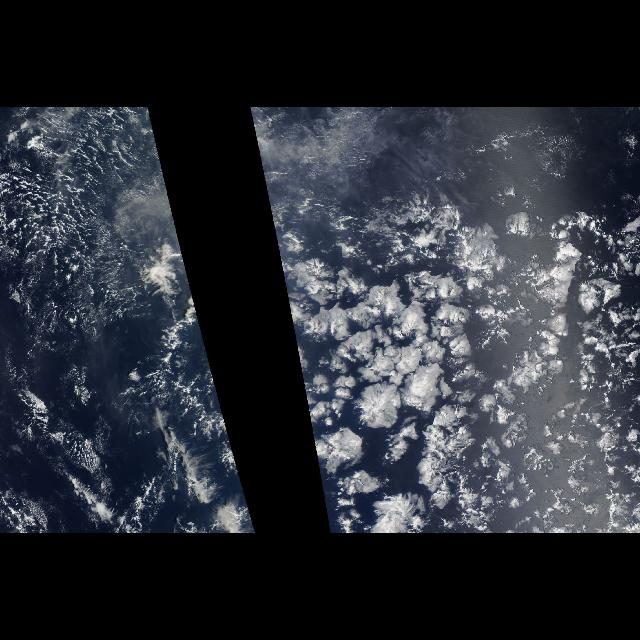Flower: (282, 210, 576, 532)
Gravel: (0, 108, 164, 348)
Sugar: (2, 114, 138, 330)
